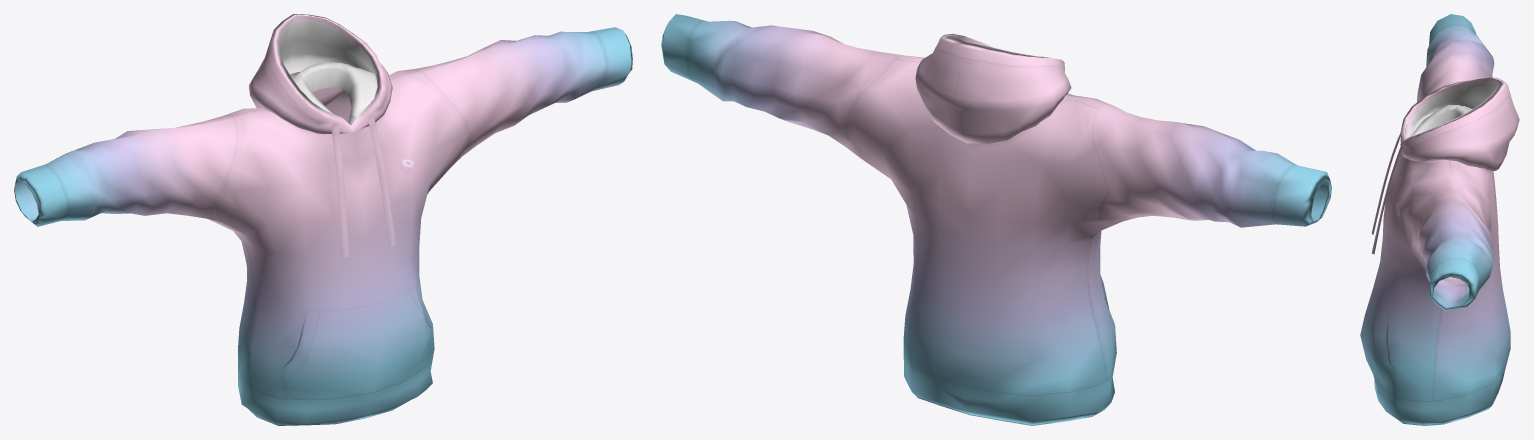
The model's file is Hoodie_106_Albedo.glb.
The picture shows the model from 3 angles, left to right: view 1: azimuth 30°, elevation 25°; view 2: azimuth 150°, elevation 25°; view 3: azimuth 270°, elevation 25°; orthographic projection. The views are drawn at different scales.
Parts seen in each view (by area): view 1: Hoodie_LP; view 2: Hoodie_LP; view 3: Hoodie_LP.
Boxes of the visible parts, x1,y1,x2,y2 form: Hoodie_LP: [14, 14, 632, 425]; Hoodie_LP: [661, 14, 1331, 425]; Hoodie_LP: [1360, 14, 1519, 425].
Bounding box in the file's own units: 1.16 × 0.6481 × 0.3026.
1 material, 1 textured.
